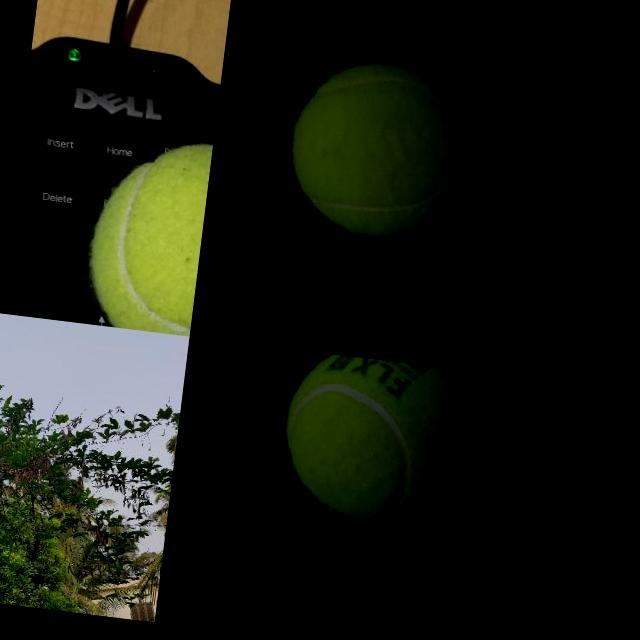tennis-ball: (280, 51, 476, 245), (274, 349, 477, 531), (79, 130, 212, 335)
